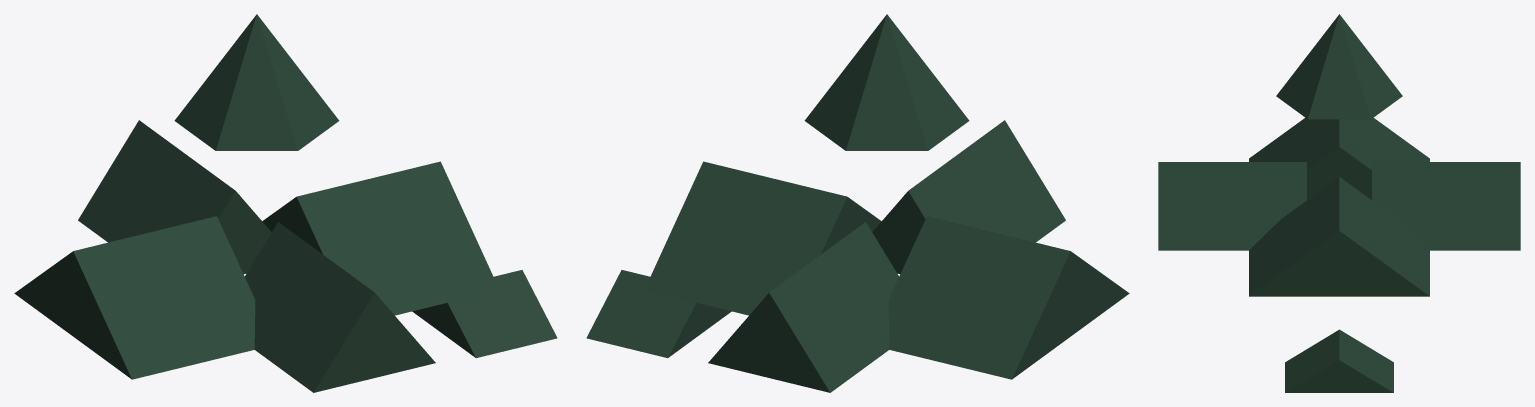
Rendered from techoA.obj.
3 views of the same model, side by side, from view 1: azimuth 30°, elevation 25°; view 2: azimuth 150°, elevation 25°; view 3: azimuth 270°, elevation 25° (orthographic). The views are drawn at different scales.
Parts seen in each view (by area): view 1: cone.007; view 2: cone.007; view 3: cone.007.
Part boxes in pixels (x1,y1,x2,y2): cone.007: (14,14,557,392); cone.007: (586,14,1129,392); cone.007: (1158,14,1520,392).
Bounding box in the file's own units: 22 × 17 × 20.
6 materials, 6 textured.
